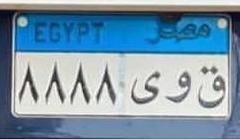8: (42, 58, 67, 106), (68, 60, 92, 106), (94, 60, 117, 107), (16, 60, 40, 104)
qaaf: (197, 60, 227, 113)
waw: (165, 66, 192, 107)
yaa: (129, 69, 163, 107)
